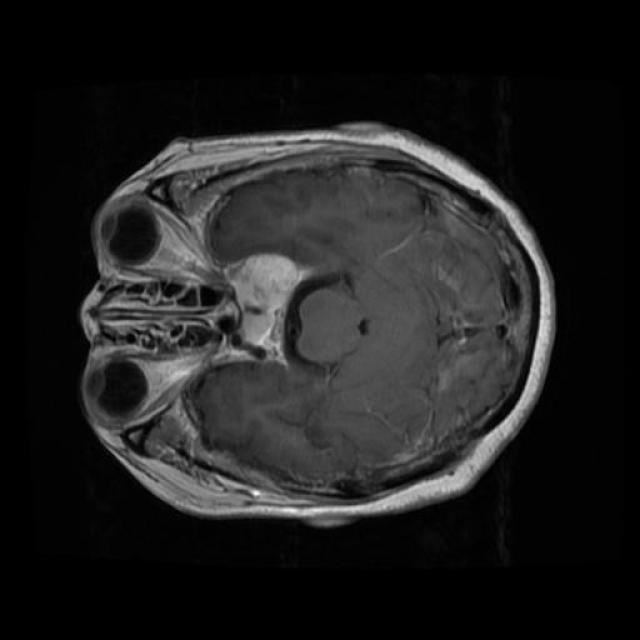Meningioma: (228, 254, 311, 318)
